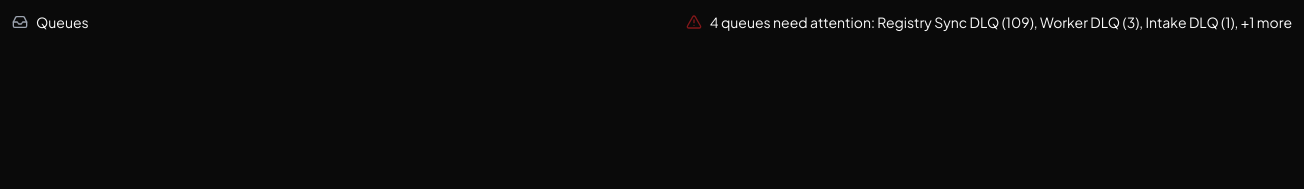
Scenario: QueueHealthRow › tooltip › lists raw alarm names, states and reasons for every non-OK alarm, untruncated
Focus the element with test id "queue-health-row". click: x=62, y=22
box: left=12, top=12, right=1292, bottom=32
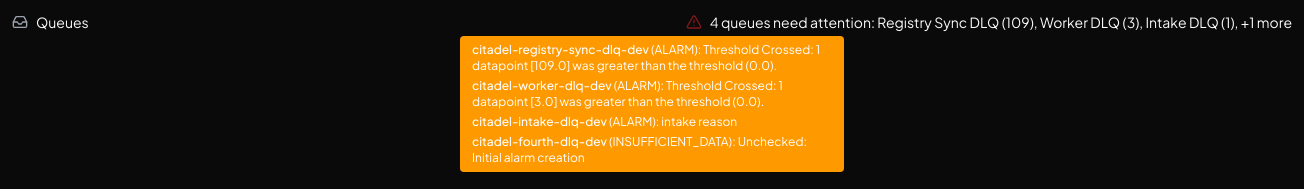
Expected: the tooltip shows "citadel-registry-sync-dlq-dev (ALARM)", left=460, top=36, right=844, bottom=172
Expected: the tooltip shows "Threshold Crossed: 1 datapoint [109.0]", left=472, top=42, right=820, bottom=73
Expected: the tooltip shows "citadel-worker-dlq-dev (ALARM)", left=460, top=36, right=844, bottom=172
